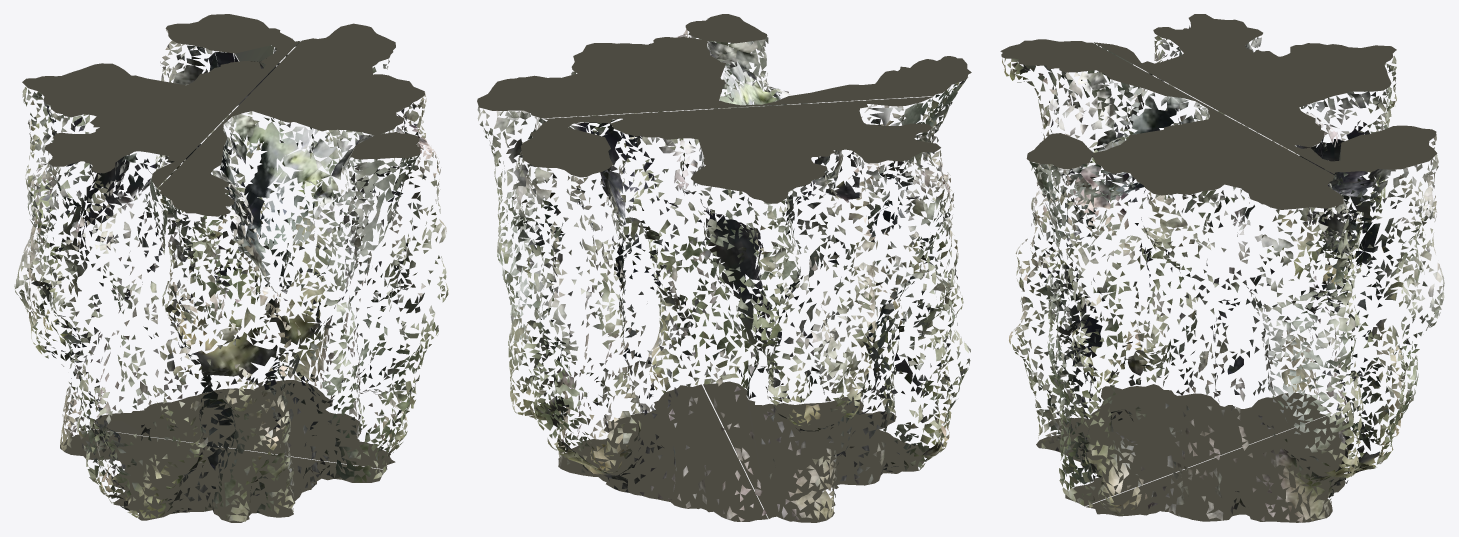
File: tree-olive-old.glb
The picture shows the model from 3 angles, left to right: view 1: azimuth 30°, elevation 25°; view 2: azimuth 150°, elevation 25°; view 3: azimuth 270°, elevation 25°; orthographic projection. The views are drawn at different scales.
Visible parts, largest first — view 1: tree-olive-old; view 2: tree-olive-old; view 3: tree-olive-old.
Boxes of the visible parts, x1,y1,x2,y2 form: tree-olive-old: (14, 14, 448, 522); tree-olive-old: (477, 14, 971, 522); tree-olive-old: (1000, 14, 1444, 522).
Size of the model in its own units: 9.35 by 7.52 by 8.65.
1 material, 1 textured.
